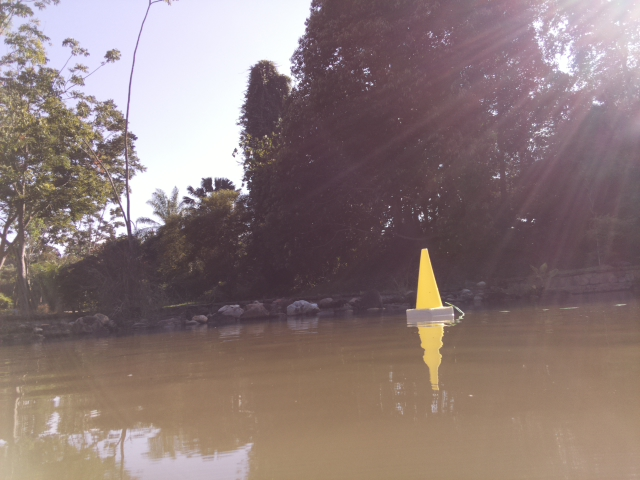checkpoint: (404, 247, 454, 318)
